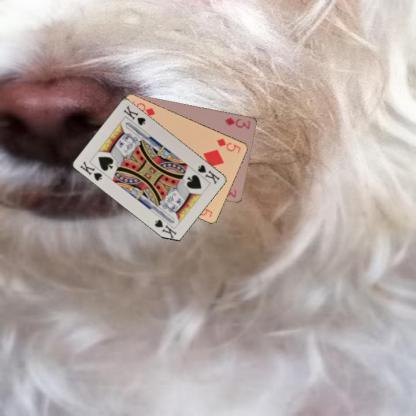3d: (222, 114, 252, 130)
5d: (214, 136, 242, 154)
Ks: (196, 162, 222, 186), (78, 158, 104, 182)
